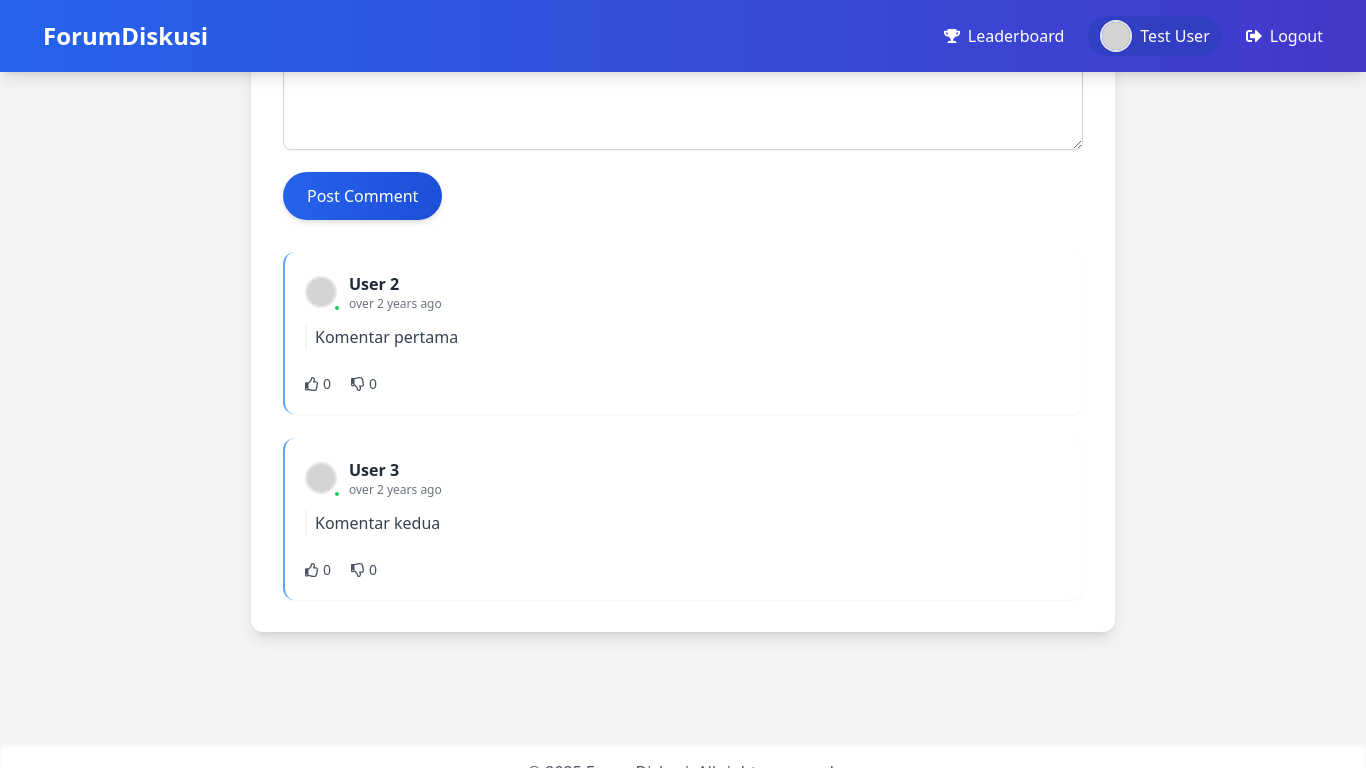
Test case: Thread Detail Flow › should upvote comment when comment upvote button is clicked
(page scrolled)
// Klik tombol upvote pada komentar pertama
Click the 1st button with test id "comment-upvote-button" at (318, 384), box left=305, top=374, right=331, bottom=394
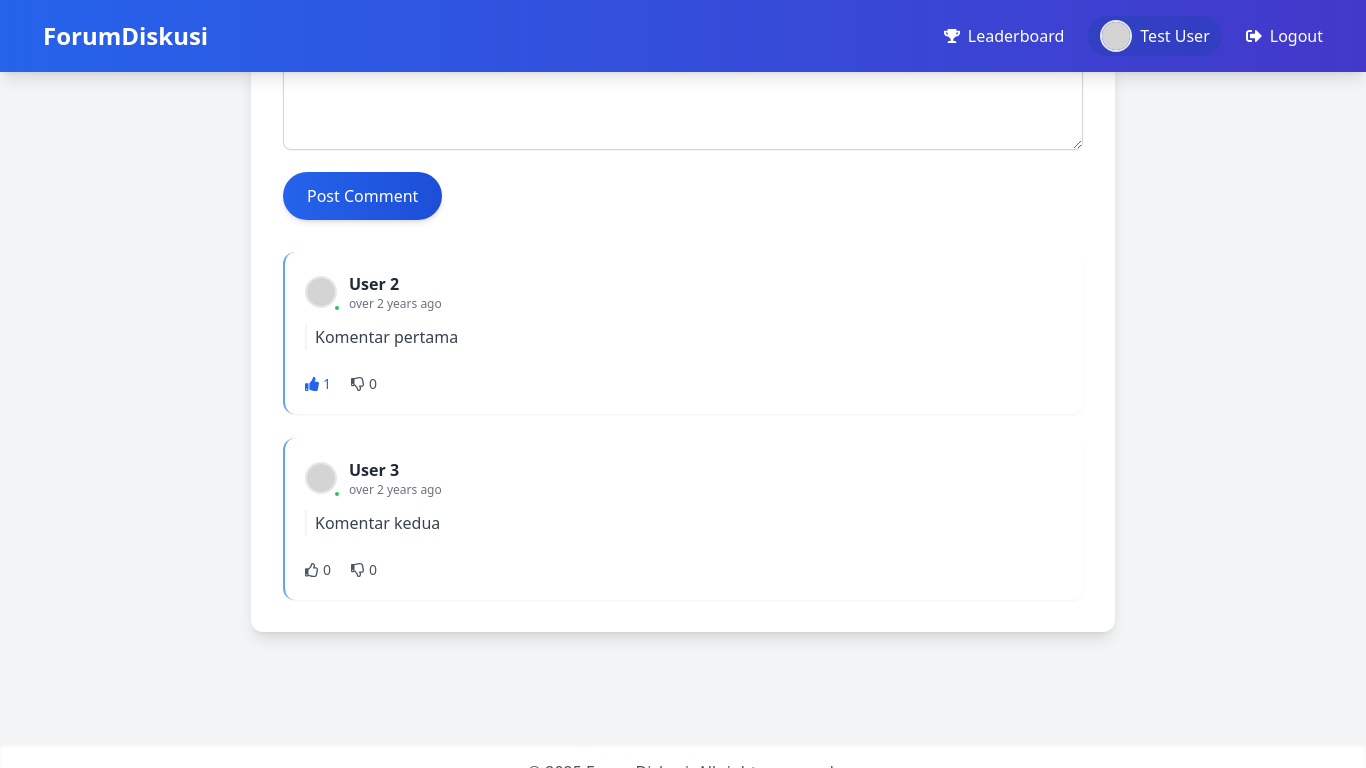
Now the text with test id "comment-upvote-count" reads "1", box left=323, top=374, right=331, bottom=393
